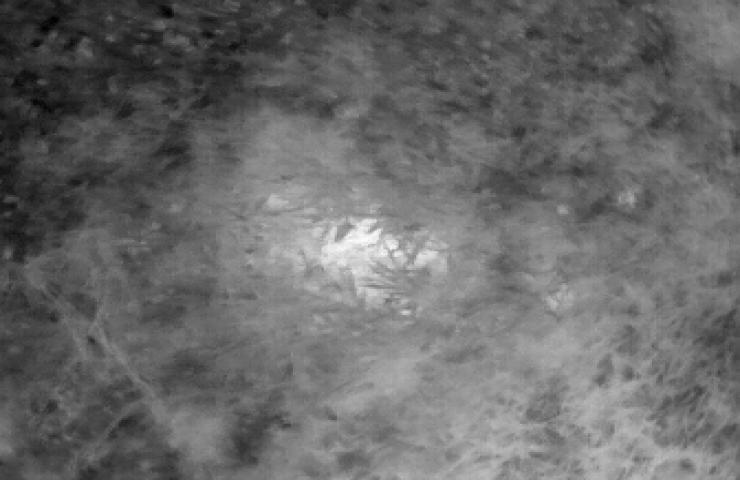landmines: (274, 196, 451, 318)
